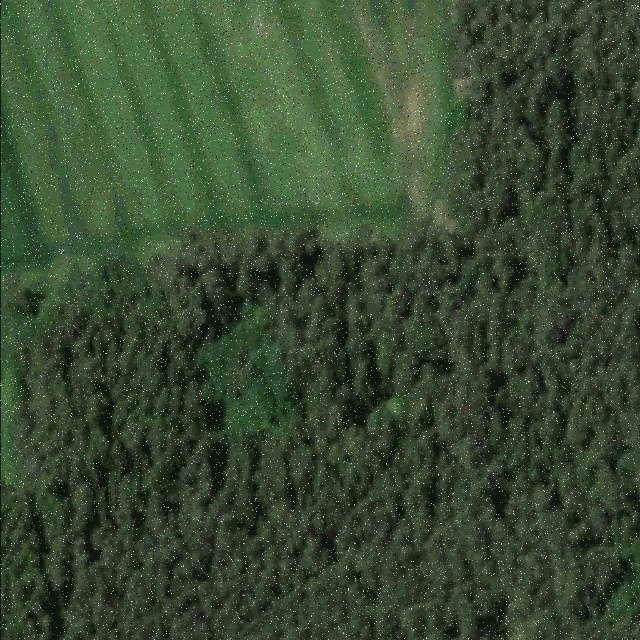vegetation: (0, 0, 640, 640)
